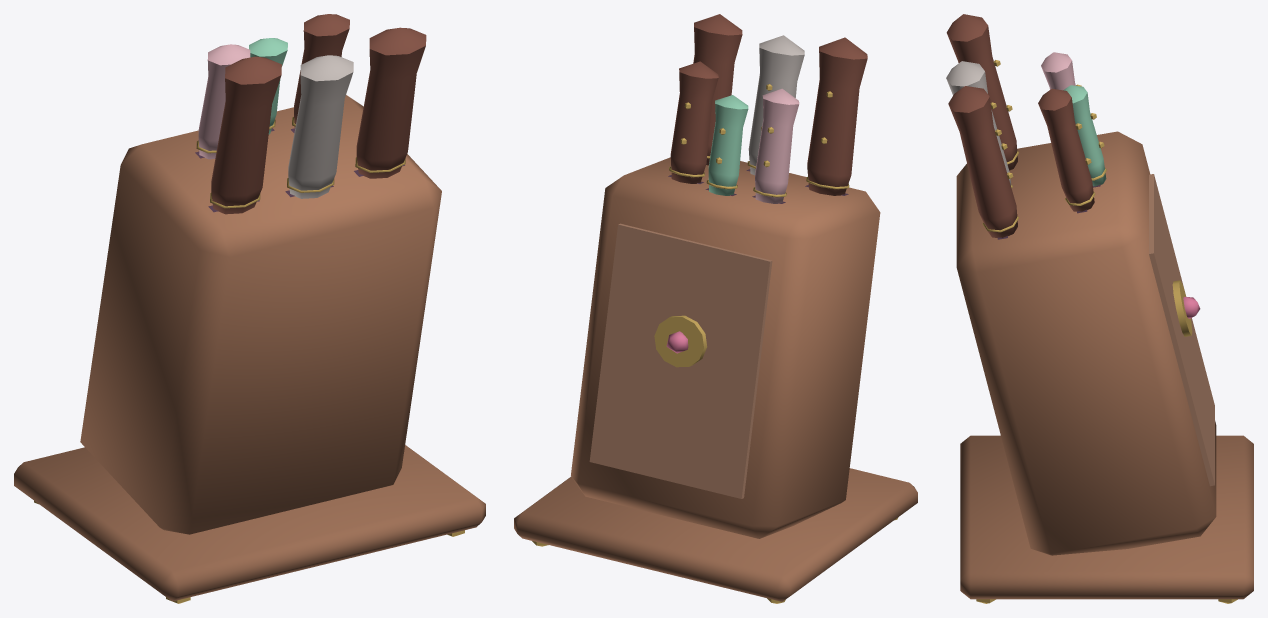
File: knife_block.glb
The picture shows the model from 3 angles, left to right: view 1: azimuth 30°, elevation 25°; view 2: azimuth 150°, elevation 25°; view 3: azimuth 270°, elevation 25°; orthographic projection. The views are drawn at different scales.
Parts seen in each view (by area): view 1: knife_block; view 2: knife_block; view 3: knife_block.
Boxes of the visible parts, <box> form: knife_block: <box>14,14,485,603</box>; knife_block: <box>514,14,917,603</box>; knife_block: <box>946,14,1253,603</box>.
Size of what is drawn, in the model's own units: 0.2 by 0.32 by 0.18.
